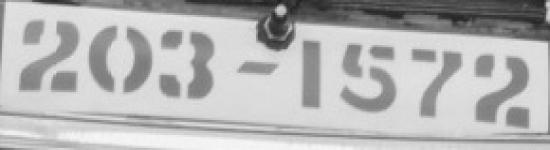-: (232, 54, 284, 83)
0: (87, 15, 155, 103)
1: (295, 36, 326, 115)
2: (11, 8, 85, 97), (472, 46, 536, 134)
3: (155, 23, 219, 108)
5: (337, 37, 400, 124)
7: (407, 42, 465, 124)
